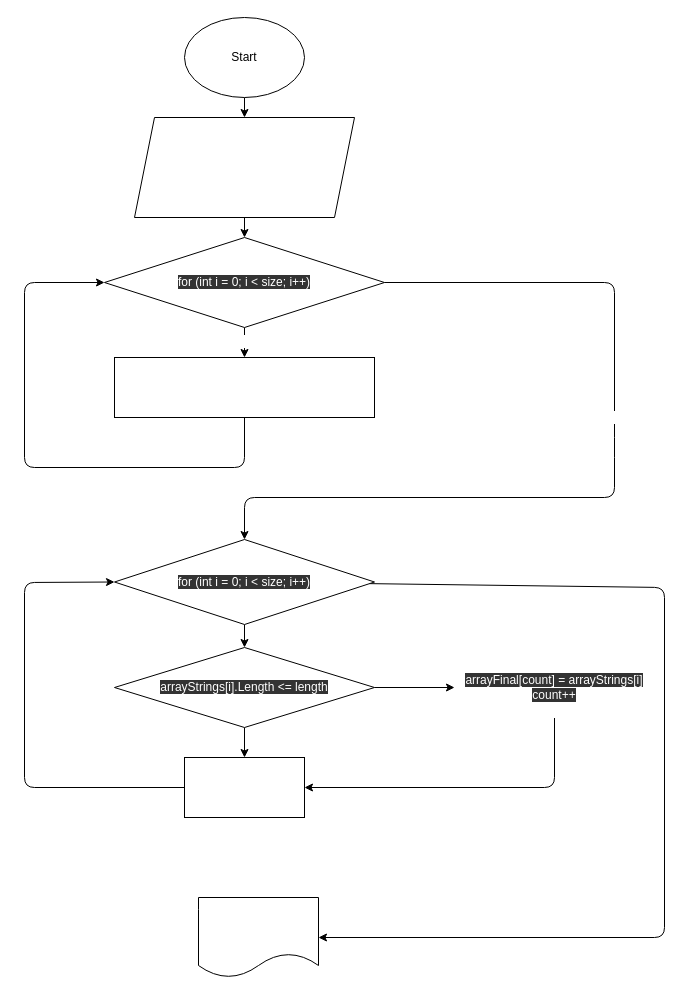
The diagram is 690 pixels wide and 995 high, and some of its shapes have lost their labels. The shapes that lost their labels are listed below. From the top down, each one's centre as x and y in pixels, then its label:
At [244,167]: "arrayStrings[size] arrayFinal[size] size count lenght simbol".
At [244,387]: "symbol = Console . ReadLine () arrayStrings [ i ] = symbol i++".
At [244,787]: "i++".
